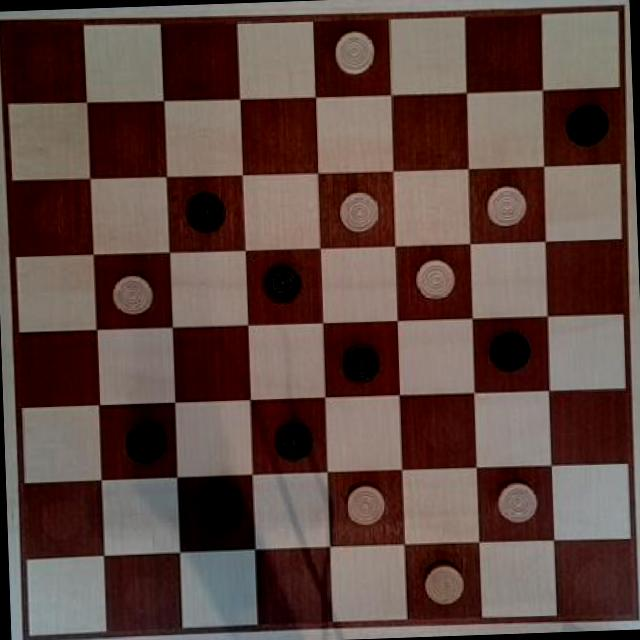BOARD: (2, 0, 636, 640)
black: (556, 96, 614, 156), (266, 410, 318, 470), (116, 417, 170, 467), (332, 338, 383, 390), (192, 488, 245, 538), (258, 258, 302, 310), (180, 188, 228, 233), (488, 330, 530, 374)
white: (488, 472, 546, 528), (328, 22, 381, 75), (108, 269, 164, 318), (419, 556, 468, 612), (476, 178, 530, 228), (407, 254, 460, 303), (343, 480, 389, 531), (334, 188, 380, 234)
